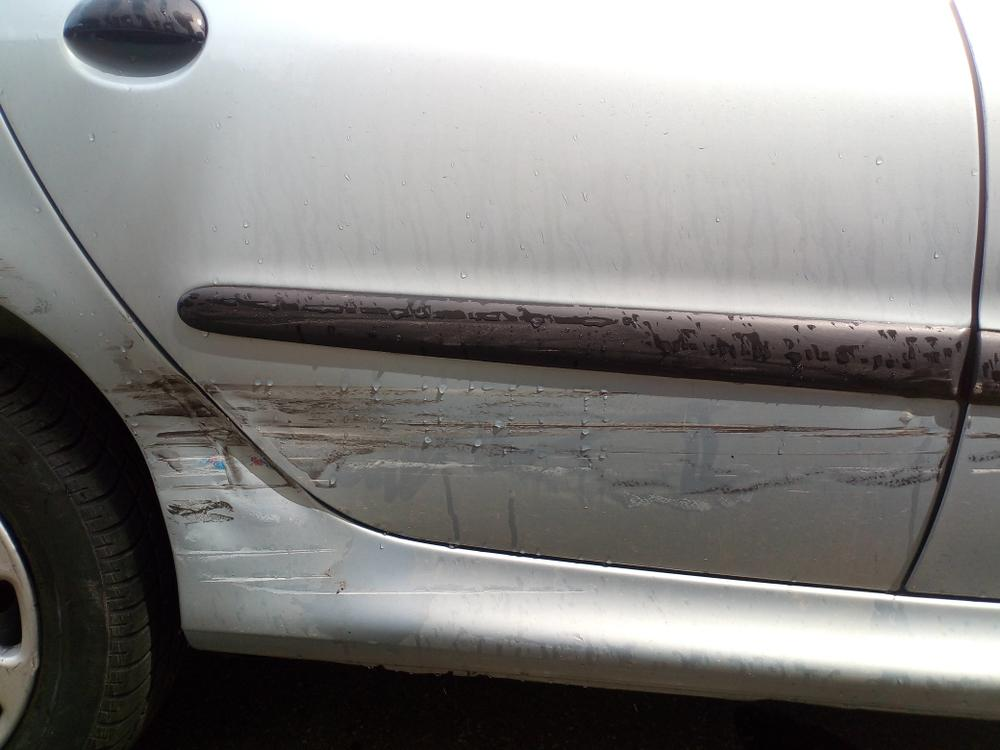scratch: (107, 375, 592, 609), (198, 381, 956, 511)
